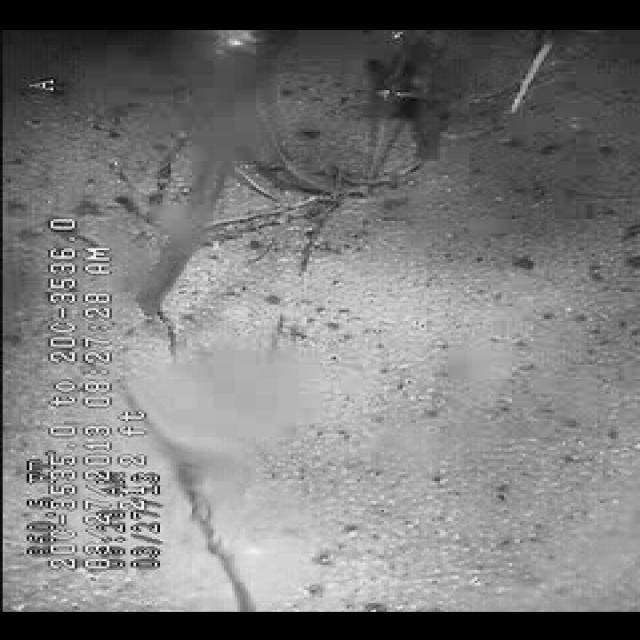Crack: (148, 436, 268, 600)
Fracture: (133, 69, 423, 282)
